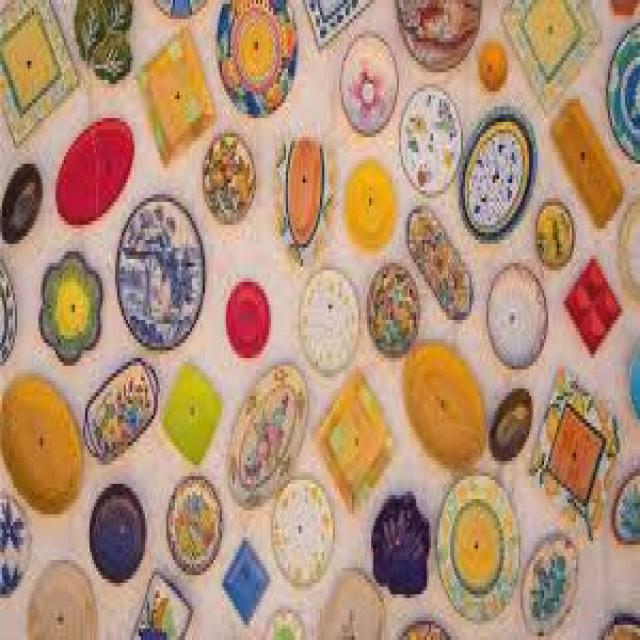Plate: (113, 187, 210, 363), (459, 98, 536, 261)
